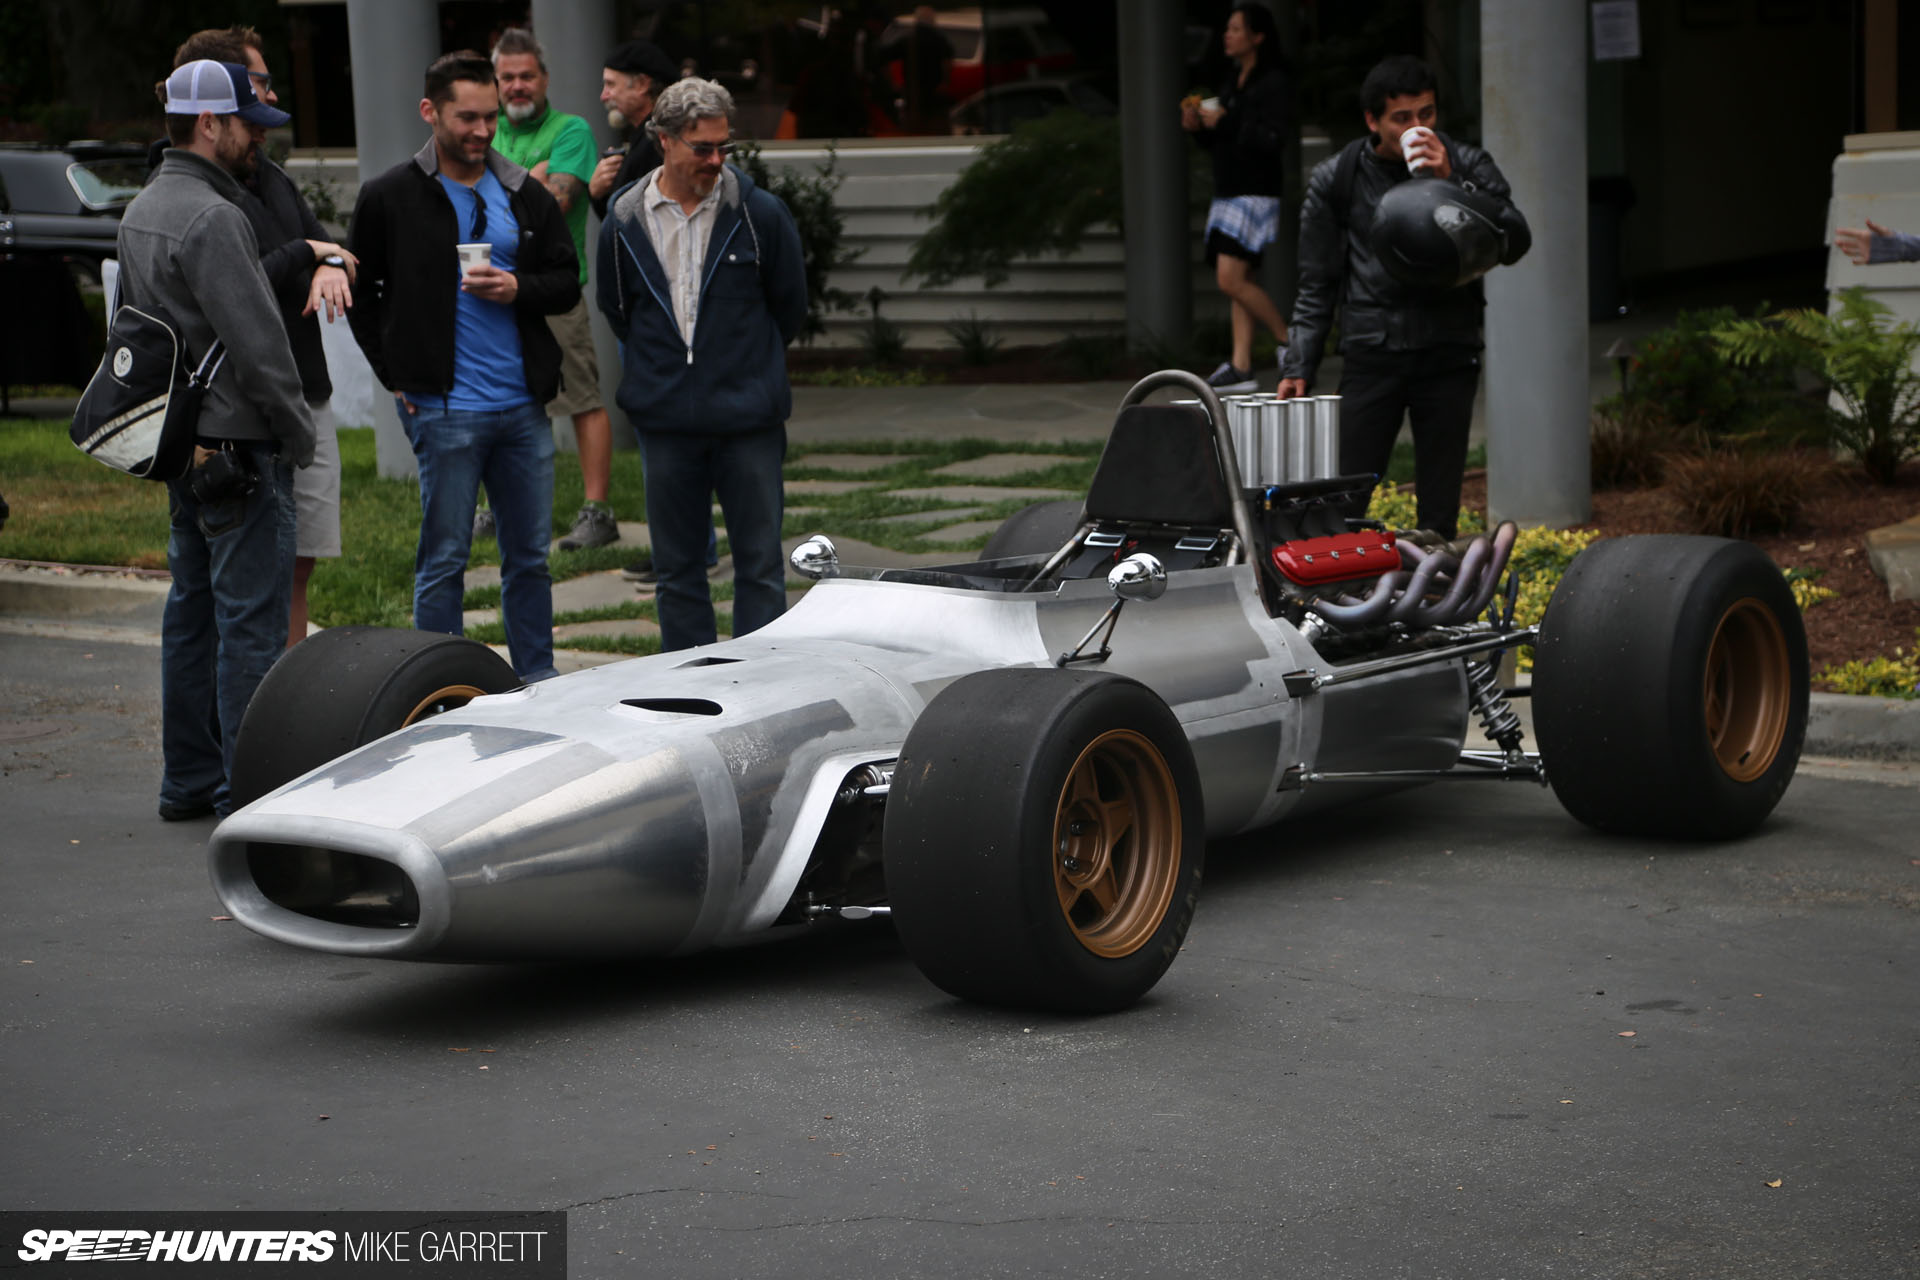f1_car: (176, 354, 1849, 1047)
